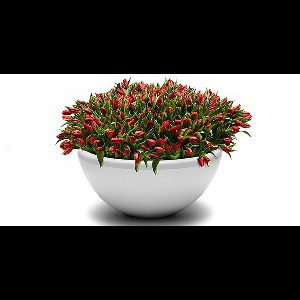flowerpot: (70, 121, 232, 222)
